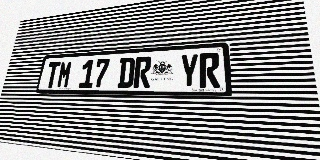1: (78, 59, 96, 88)
7: (92, 58, 110, 88)
D: (117, 57, 135, 88)
M: (56, 61, 73, 88)
R: (199, 52, 220, 88), (133, 56, 152, 88)
T: (44, 61, 61, 88)
Y: (179, 53, 199, 88)
